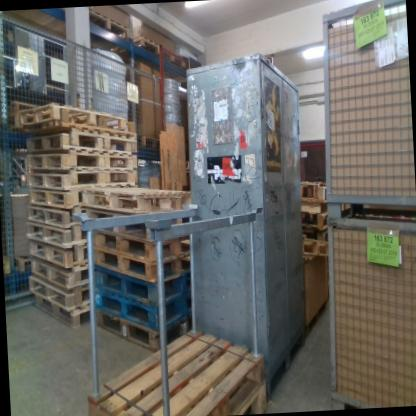pallet: (82, 323, 273, 416), (18, 95, 129, 138), (95, 265, 185, 304), (84, 180, 189, 213), (98, 286, 191, 322), (94, 244, 189, 279), (97, 305, 187, 341), (95, 226, 189, 260), (27, 147, 135, 171), (27, 165, 136, 187), (26, 133, 138, 153), (29, 254, 88, 287), (28, 276, 89, 307), (35, 292, 87, 328), (27, 237, 89, 266), (27, 221, 87, 246), (26, 202, 87, 224), (28, 184, 86, 205), (236, 379, 268, 415), (302, 235, 330, 261), (299, 179, 327, 205), (300, 209, 328, 230)
stillage: (316, 0, 416, 222), (322, 218, 416, 409)
